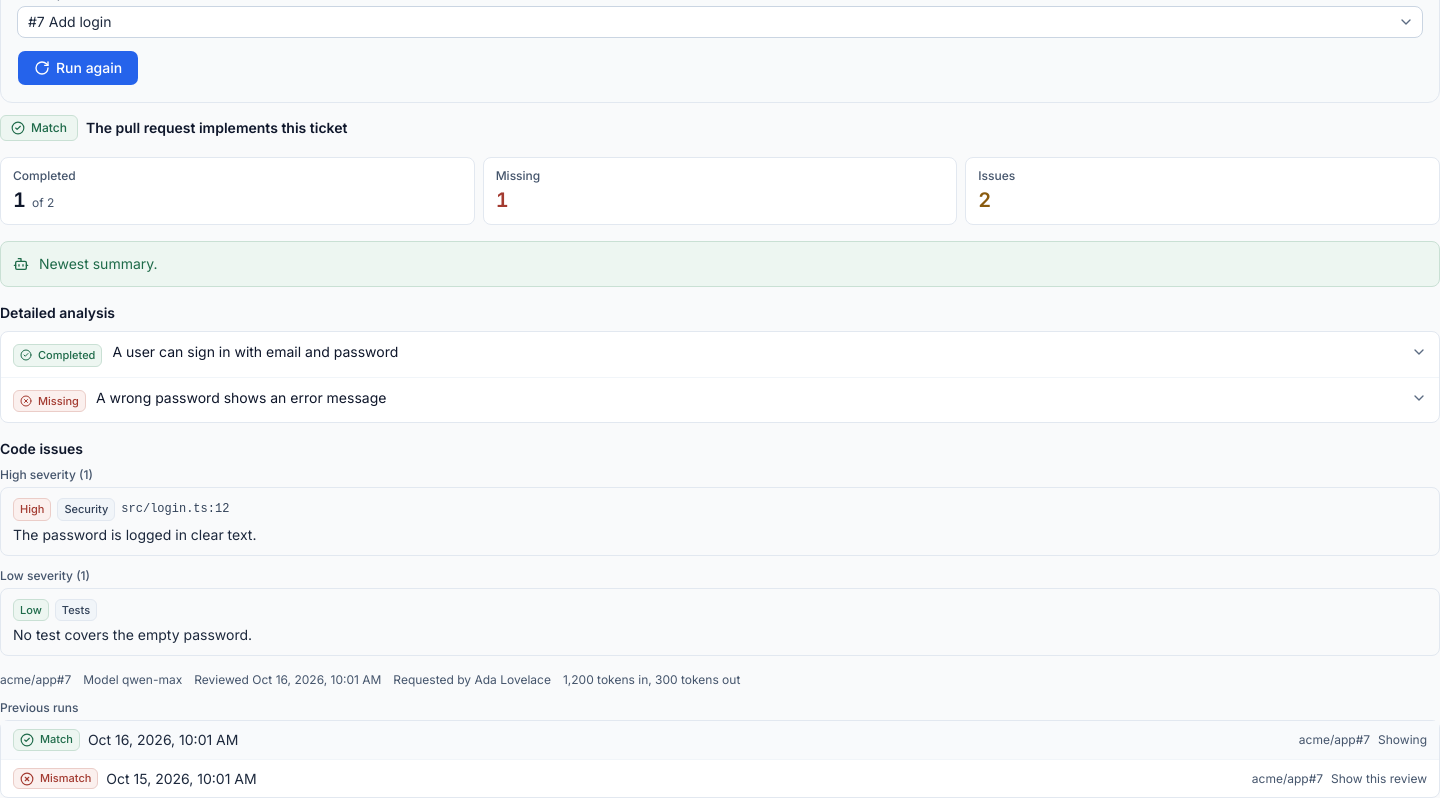
AiReviewPanel › AC-023: lists the previous runs and switches between them
This screenshot has width=1440, height=798.
(page scrolled)
Expected: the text "Newest summary." is shown, [39,255,158,272]
Click the button "Mismatch Oct 15, 2026, 10:01 AM acme/app#7 Show this review".
click(56, 779)  # box [1,760,1439,797]
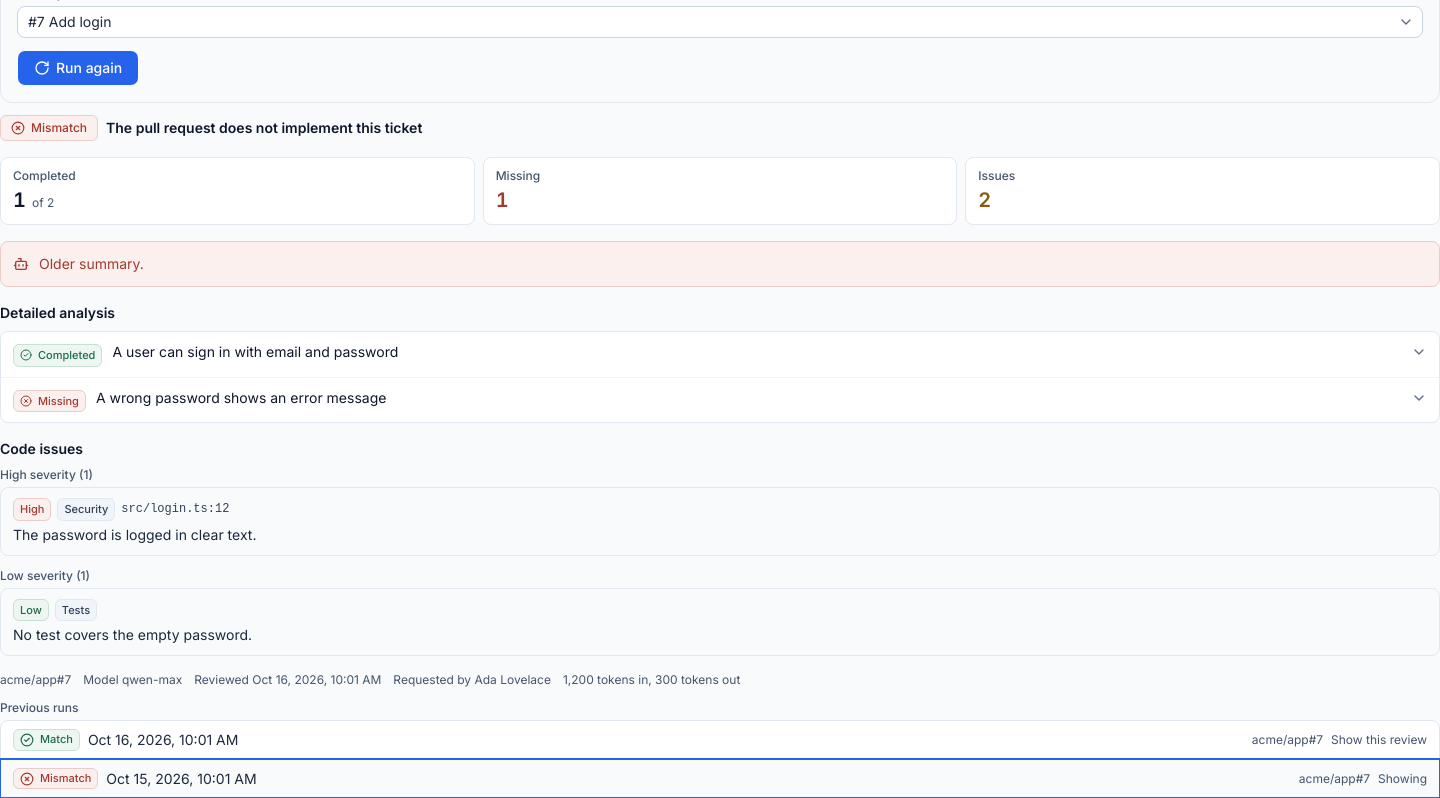
Result: the text "Older summary." is shown at [39,255,144,272]
